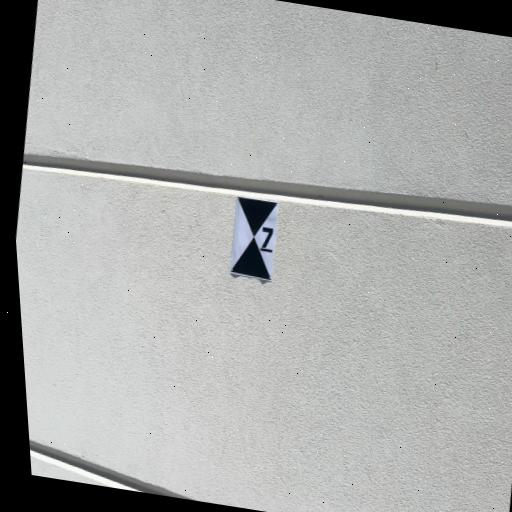target7: (230, 196, 279, 279)
